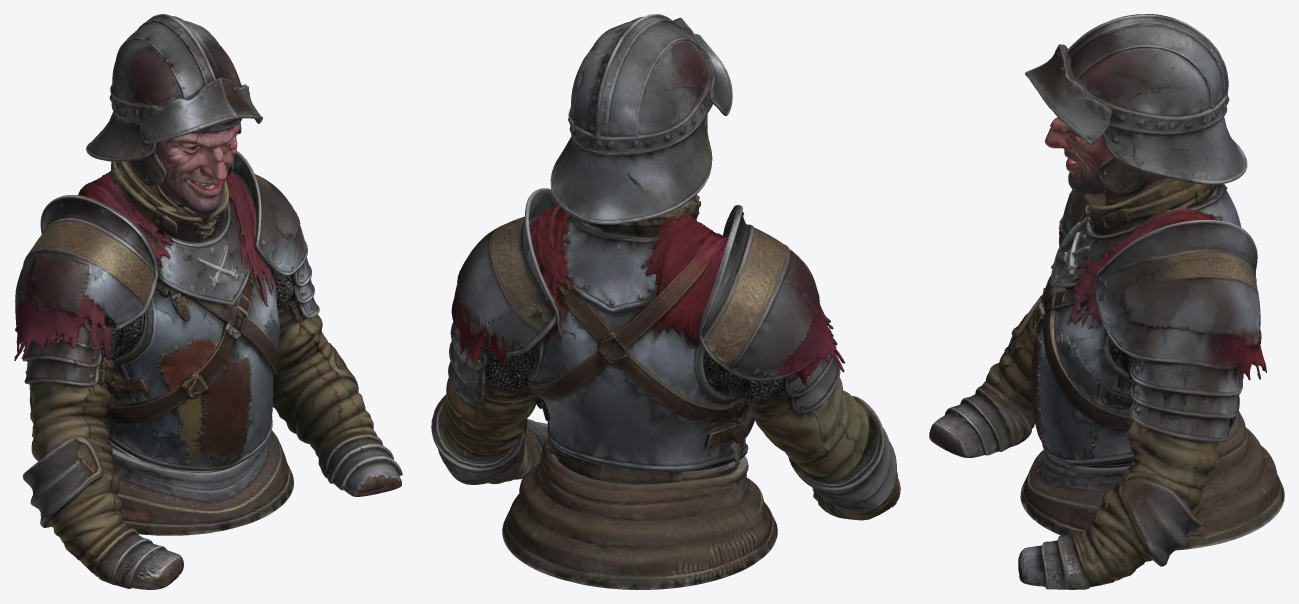
The model's file is hero_neutral.glb.
3 views of the same model, side by side, from view 1: azimuth 30°, elevation 25°; view 2: azimuth 150°, elevation 25°; view 3: azimuth 270°, elevation 25° (orthographic). The views are drawn at different scales.
Bounding box in the file's own units: 1.57 × 1.9 × 1.26.
1 material, 1 textured.
